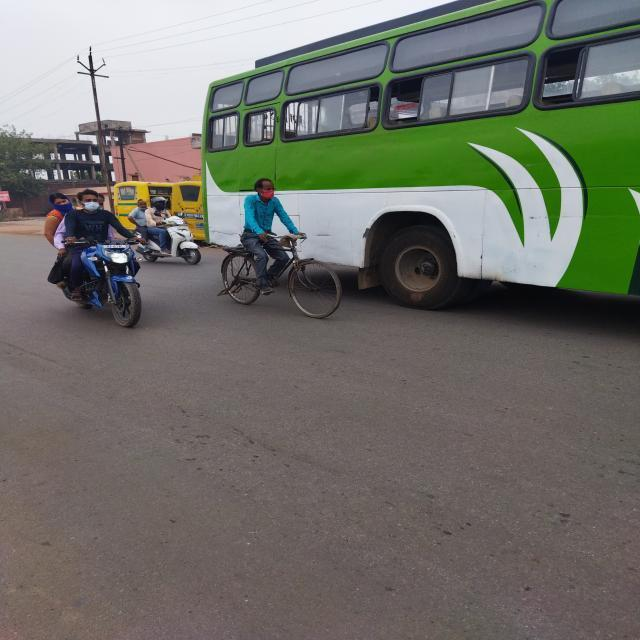two_wheeler_front: (50, 229, 156, 335), (131, 206, 209, 272)
